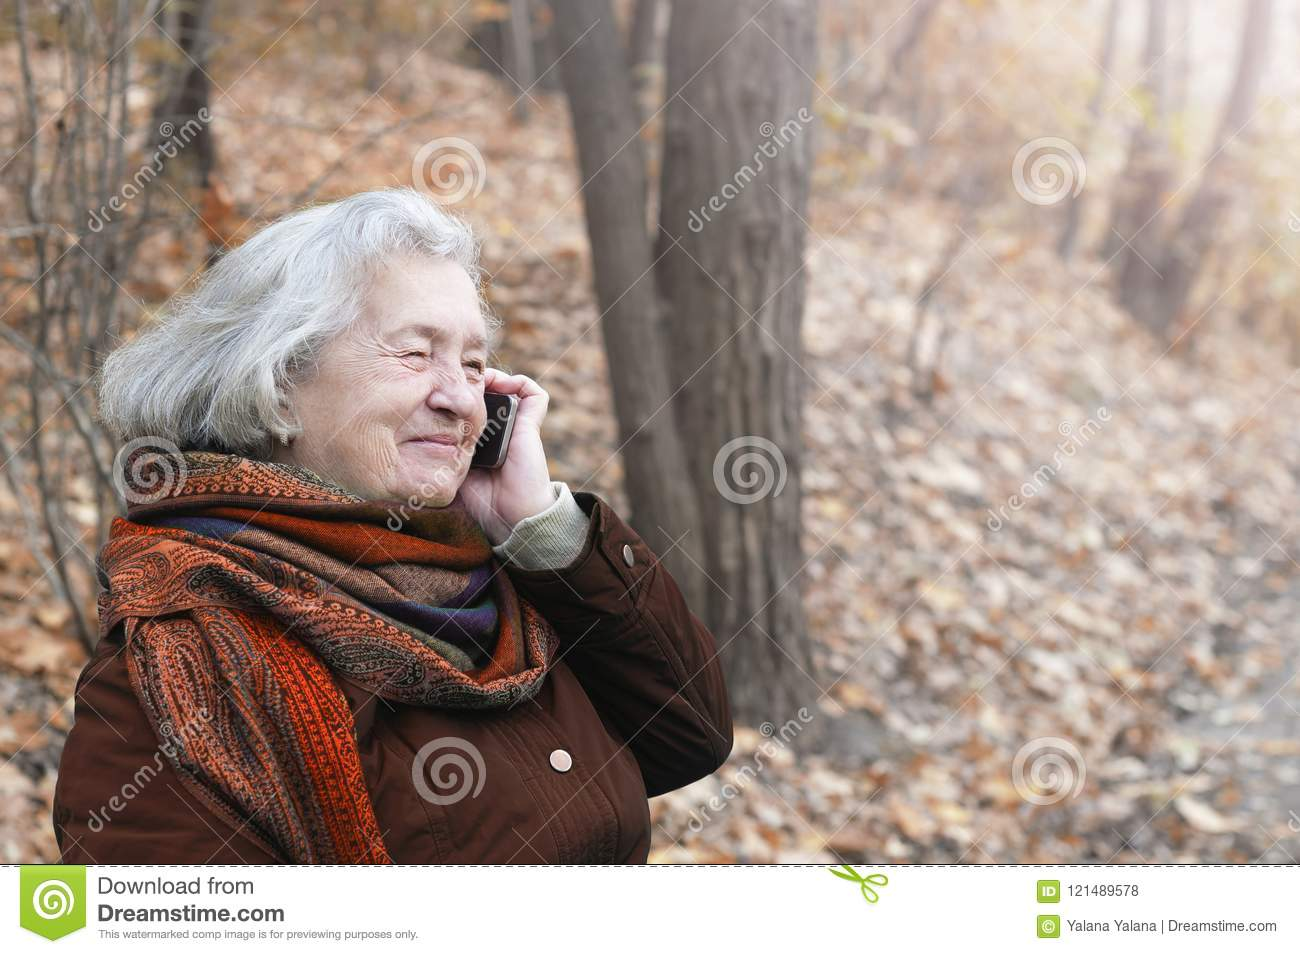phone: (467, 388, 529, 470)
talk: (374, 312, 562, 533)
